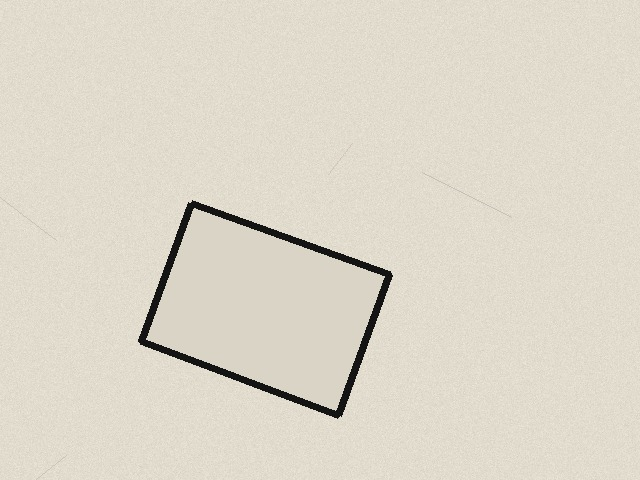parking_area: (141, 203, 389, 415)
